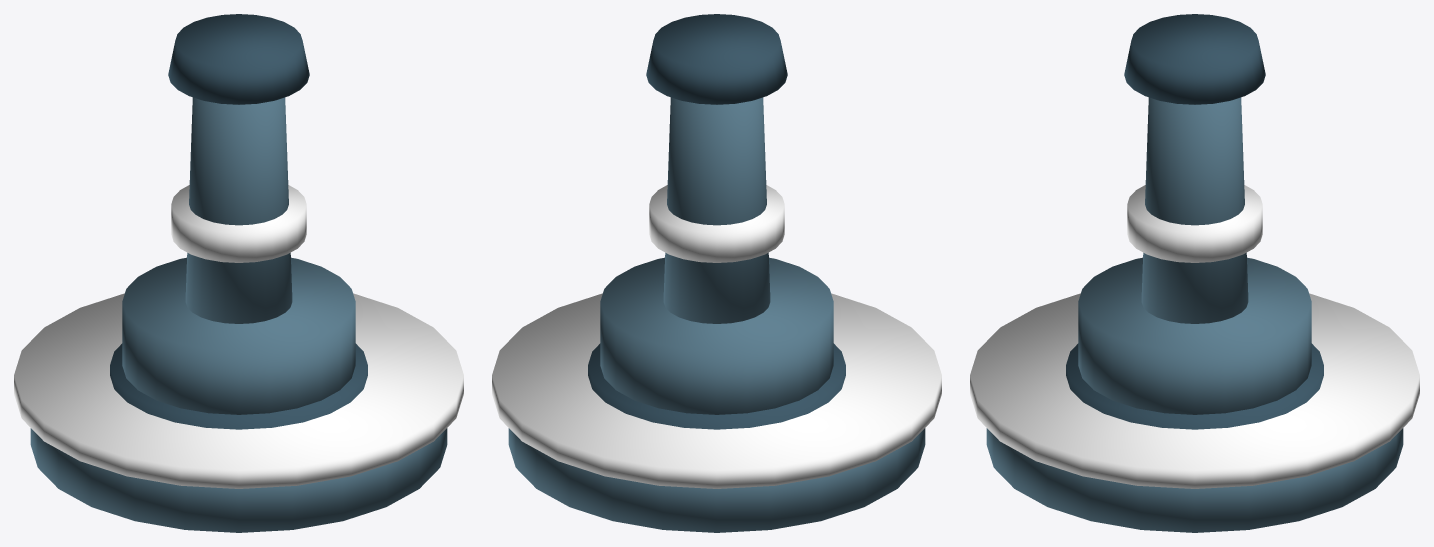
Rendered from cannon.glb.
3 views of the same model, side by side, from view 1: azimuth 30°, elevation 25°; view 2: azimuth 150°, elevation 25°; view 3: azimuth 270°, elevation 25° (orthographic).
Parts seen in each view (by area): view 1: base, turret-mesh; view 2: base, turret-mesh; view 3: base, turret-mesh.
Boxes of the visible parts, x1=… form: base: x1=14, y1=293, x2=463, y2=532; turret-mesh: x1=122, y1=14, x2=355, y2=414; base: x1=492, y1=293, x2=941, y2=532; turret-mesh: x1=600, y1=14, x2=833, y2=414; base: x1=970, y1=293, x2=1419, y2=532; turret-mesh: x1=1078, y1=14, x2=1311, y2=414.
Bounding box in the file's own units: 2.16 × 2.14 × 2.16.
